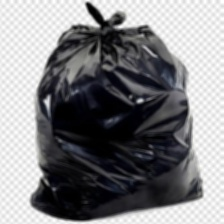plastic_bag: (26, 1, 206, 221)
